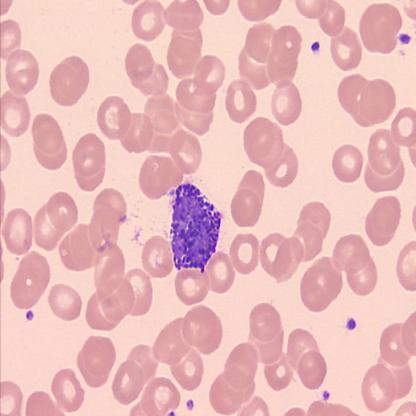Basophil: (166, 178, 224, 275)
